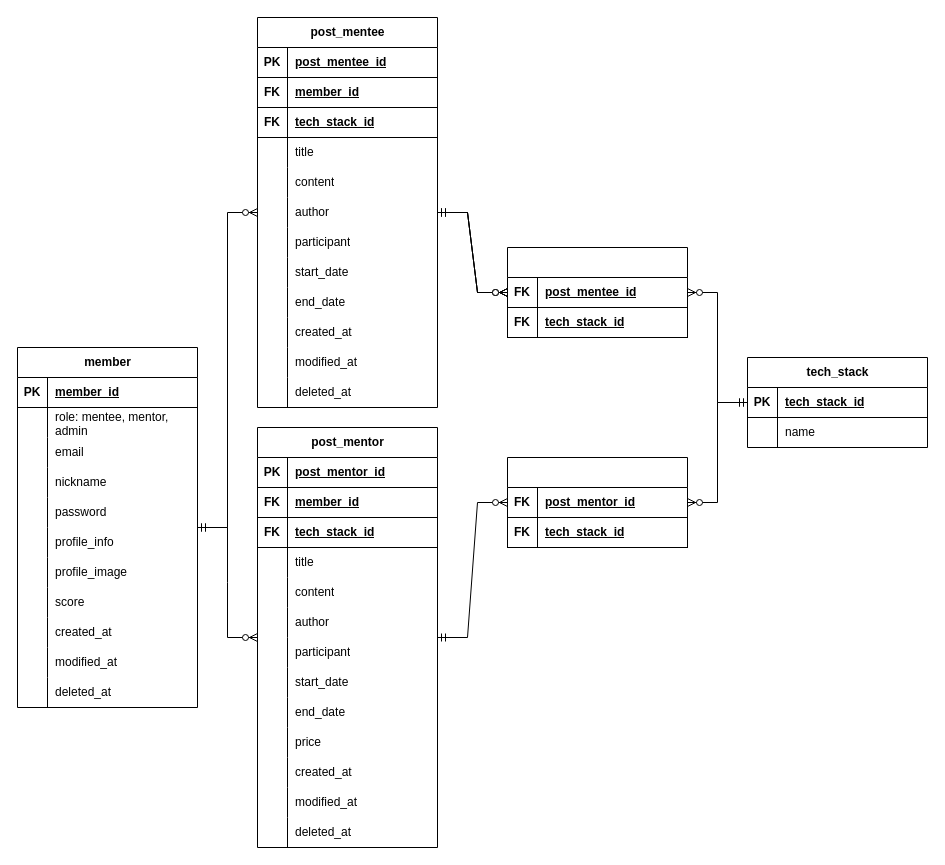
Image size: 945x865. Some labels were removed from this diagram. Each missing label, with the box of its shape:
post_mentee_tech_stack: (506, 246, 688, 338)
post_mentor_tech_stack: (506, 456, 688, 548)
